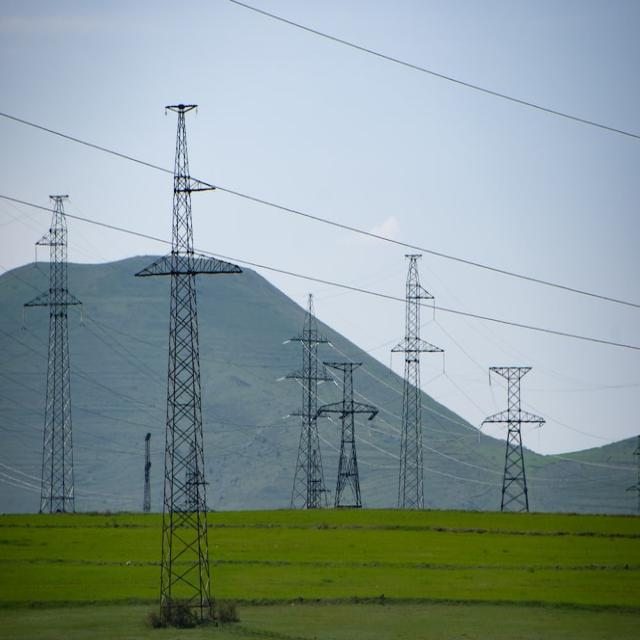transmission tower: (115, 89, 241, 593), (459, 304, 581, 542), (21, 143, 94, 520), (380, 214, 460, 536), (268, 270, 334, 556)
